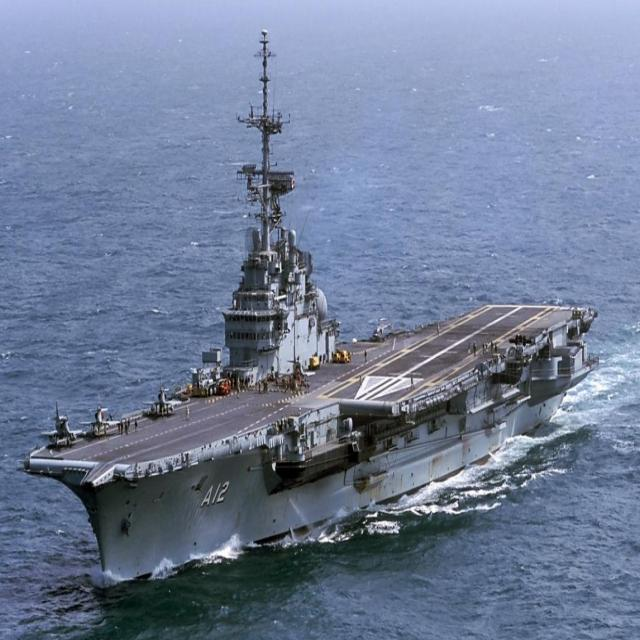Portanaves: (18, 23, 604, 596)
